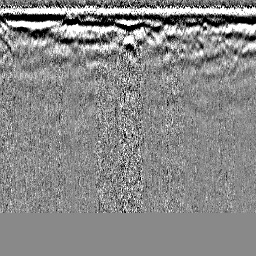cavity: (118, 35, 138, 58)
